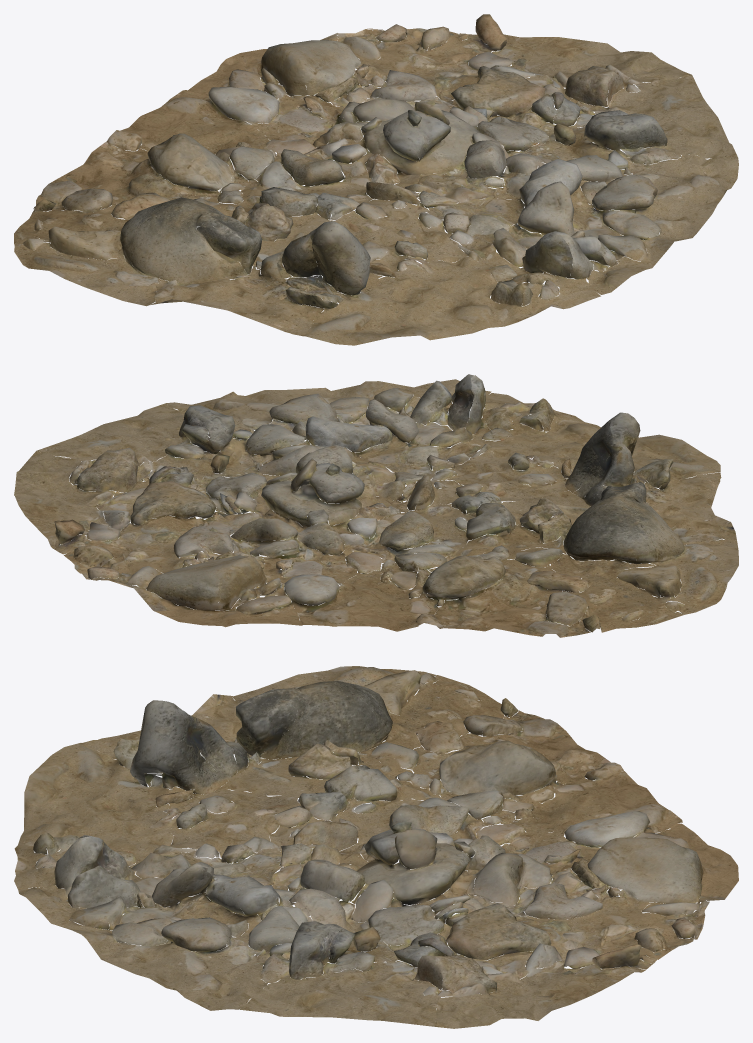
Rendered from sand_rocks_small_01.fbx.
The picture shows the model from 3 angles, top to bottom: view 1: azimuth 30°, elevation 25°; view 2: azimuth 150°, elevation 25°; view 3: azimuth 270°, elevation 25°; orthographic projection. The views are drawn at different scales.
Visible parts, largest first — view 1: sand_rocks_small_01_LOD0; view 2: sand_rocks_small_01_LOD0; view 3: sand_rocks_small_01_LOD0.
Boxes of the visible parts, x1,y1,x2,y2 form: sand_rocks_small_01_LOD0: [14, 14, 738, 345]; sand_rocks_small_01_LOD0: [14, 374, 738, 637]; sand_rocks_small_01_LOD0: [14, 666, 738, 1028].
Size of the model in its own units: 463 by 53.7 by 388.
Materials: 1 (1 with a texture image).
